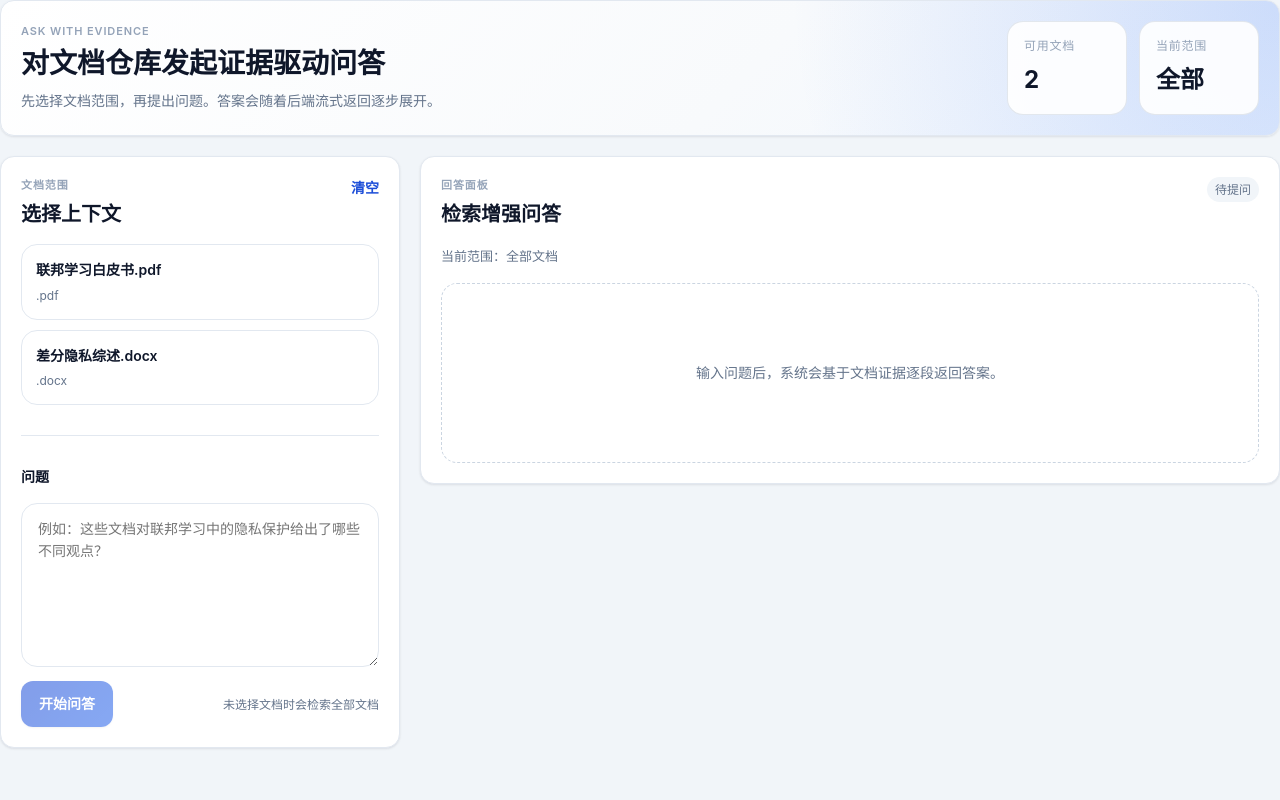
Test case: QAPage › loads documents and streams answers into the session panel
Type "联邦学习如何保护隐私？" into the text box labelled "问题".
click(200, 585); type("联邦学习如何保护隐私？")  # box left=21, top=503, right=379, bottom=667
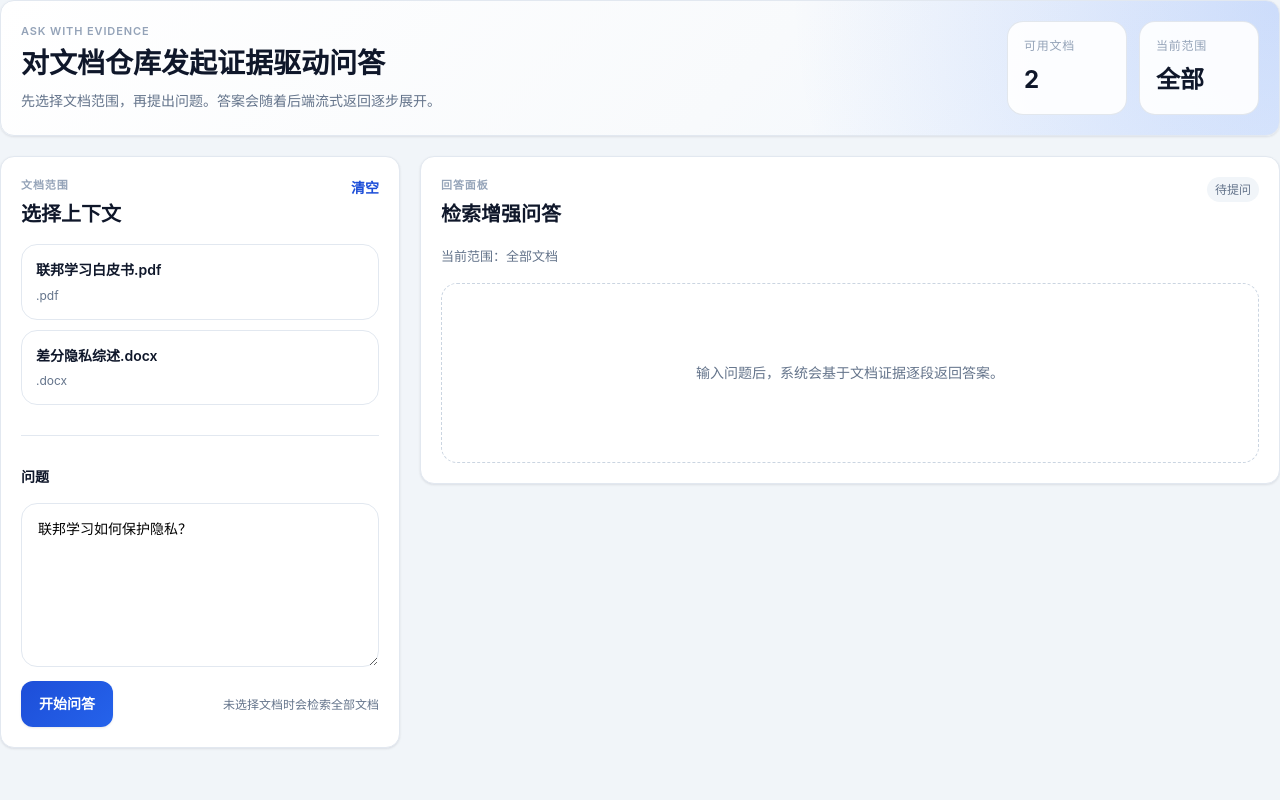
Click the button "开始问答".
click(67, 704)  # box left=21, top=681, right=113, bottom=728
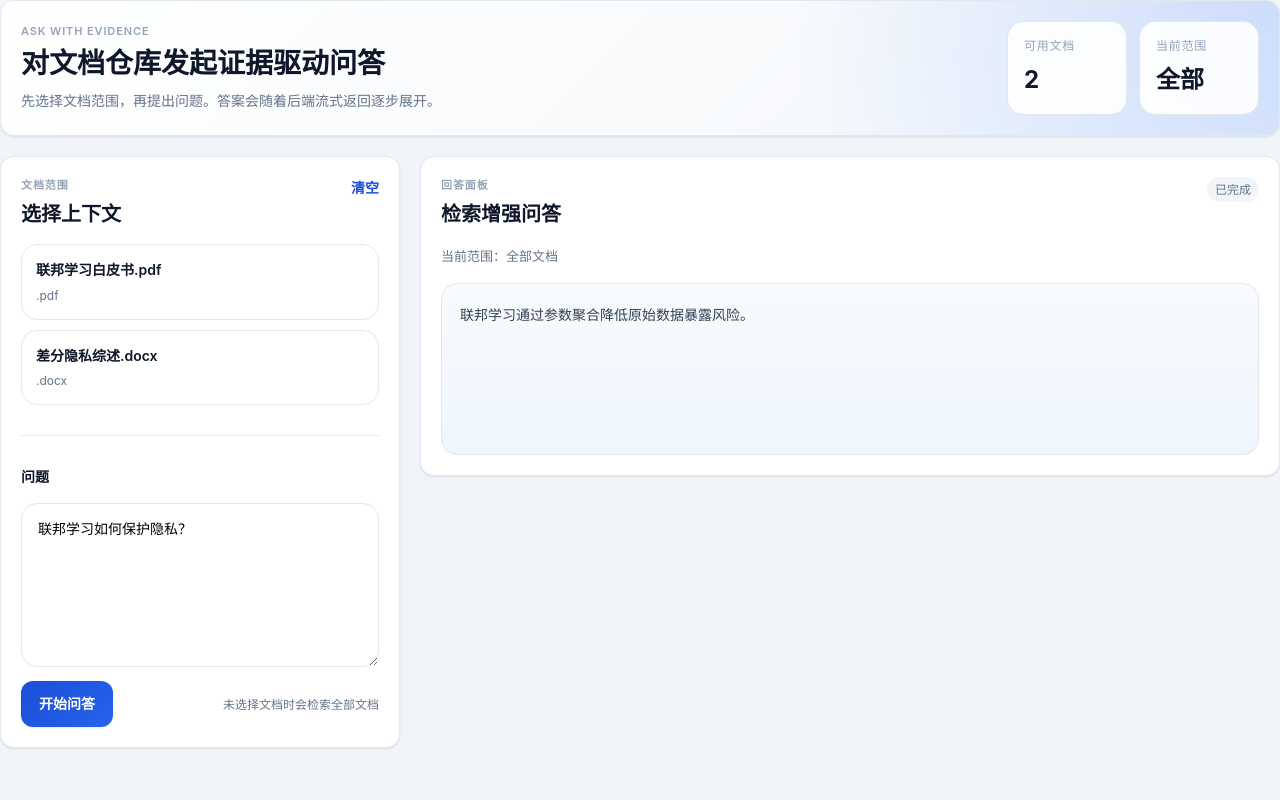
Check: the text "联邦学习通过参数聚合降低原始数据暴露风险。" is shown, box left=441, top=283, right=1259, bottom=455
